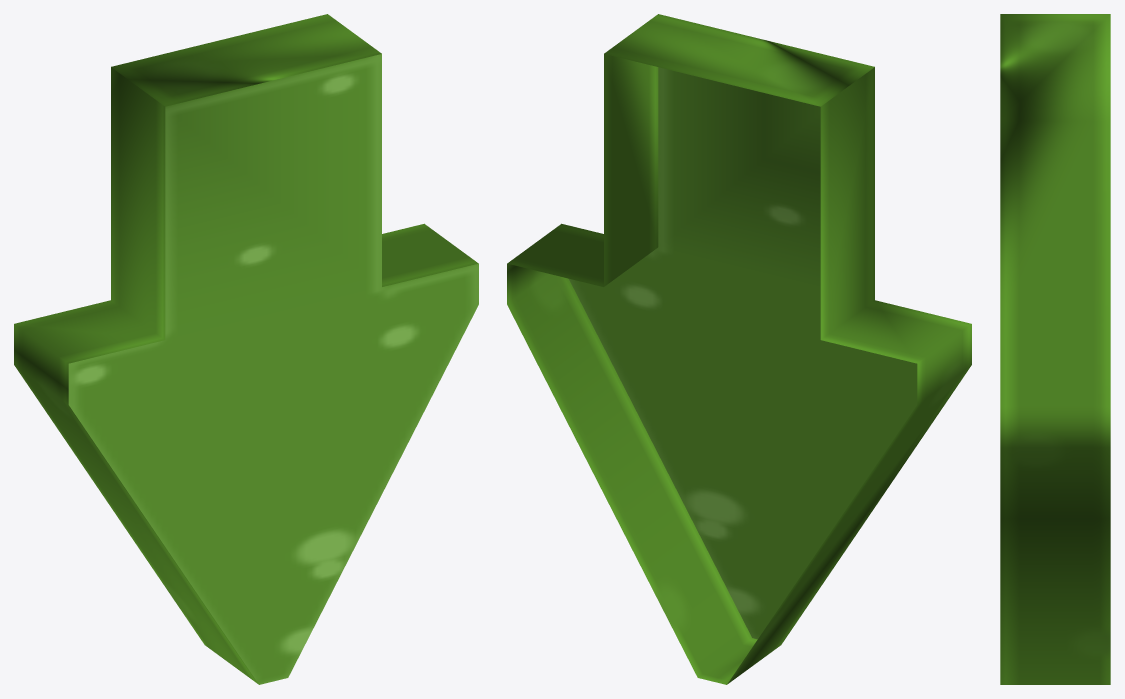
Rendered from jiantou.FBX.
3 views of the same model, side by side, from view 1: azimuth 30°, elevation 25°; view 2: azimuth 150°, elevation 25°; view 3: azimuth 270°, elevation 25° (orthographic).
Parts seen in each view (by area): view 1: 01; view 2: 01; view 3: 01.
Part boxes in pixels (x1=…): 01: x1=14, y1=14, x2=478, y2=684; 01: x1=507, y1=14, x2=971, y2=684; 01: x1=1000, y1=14, x2=1110, y2=684.
Size of the model in its own units: 29.5 by 41.3 by 6.78.
